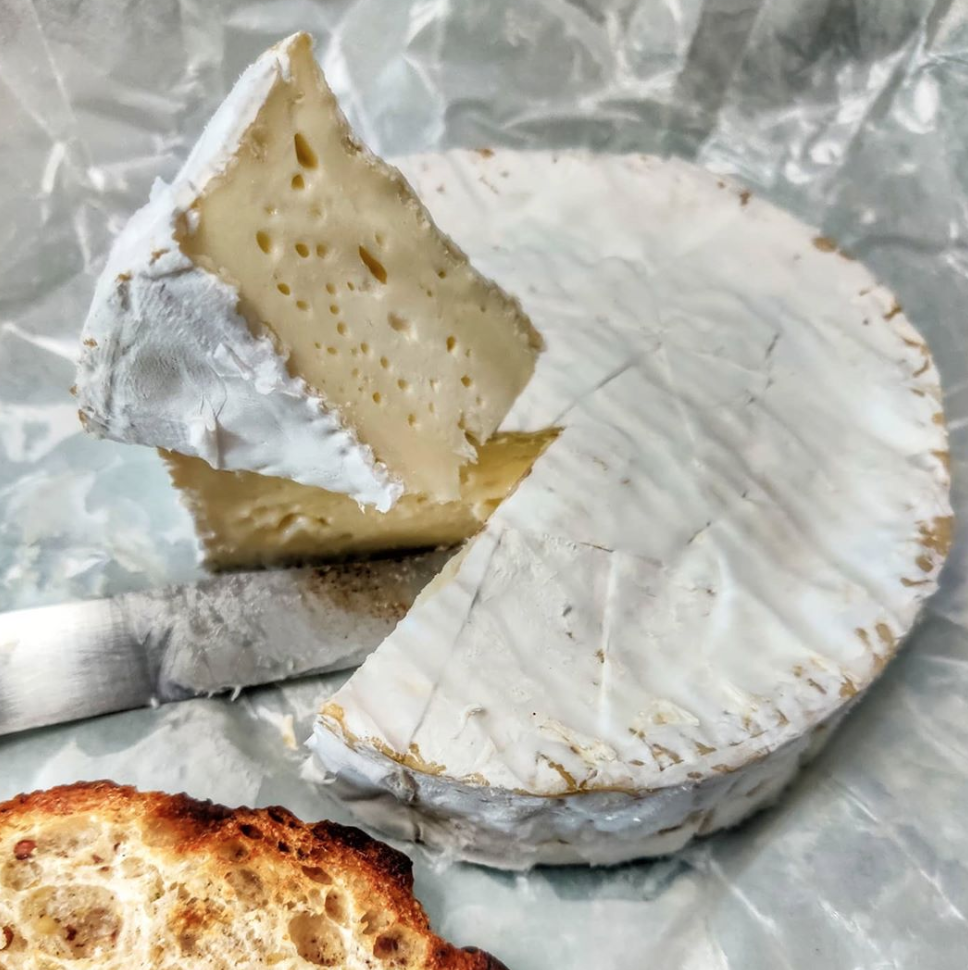camembert: (549, 82, 954, 872), (75, 32, 552, 520)
